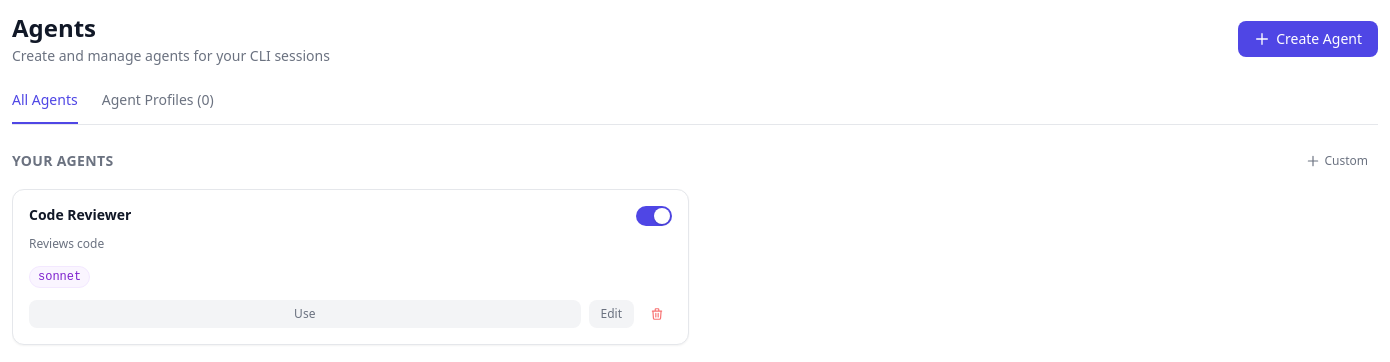
Test: Agents › switches to Agent Profiles view when tab clicked
This screenshot has width=1390, height=362.
Expected: the text "Code Reviewer" is shown, [29,206,132,224]
Click the button "Agent Profiles (0)".
click(158, 107)  # box [102,90,214,124]
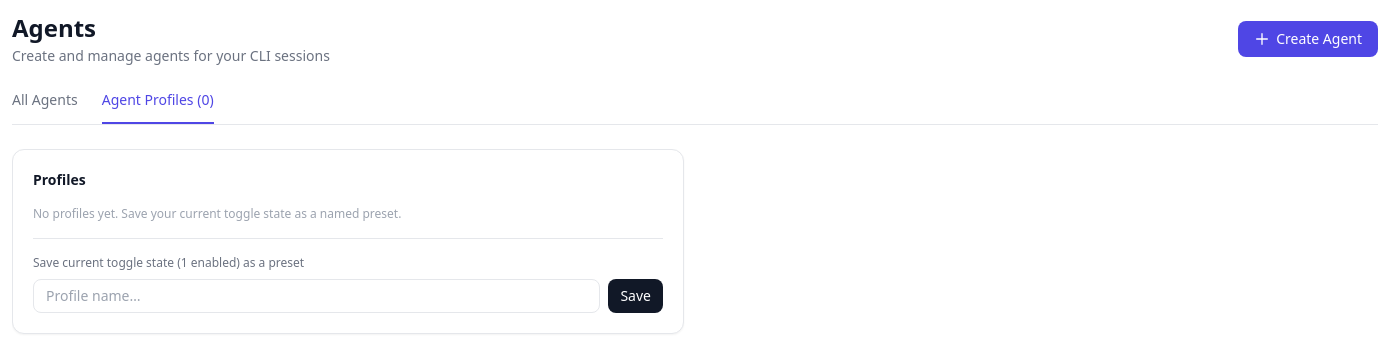
Expected: the heading "Profiles" is shown, [33,170,86,189]
